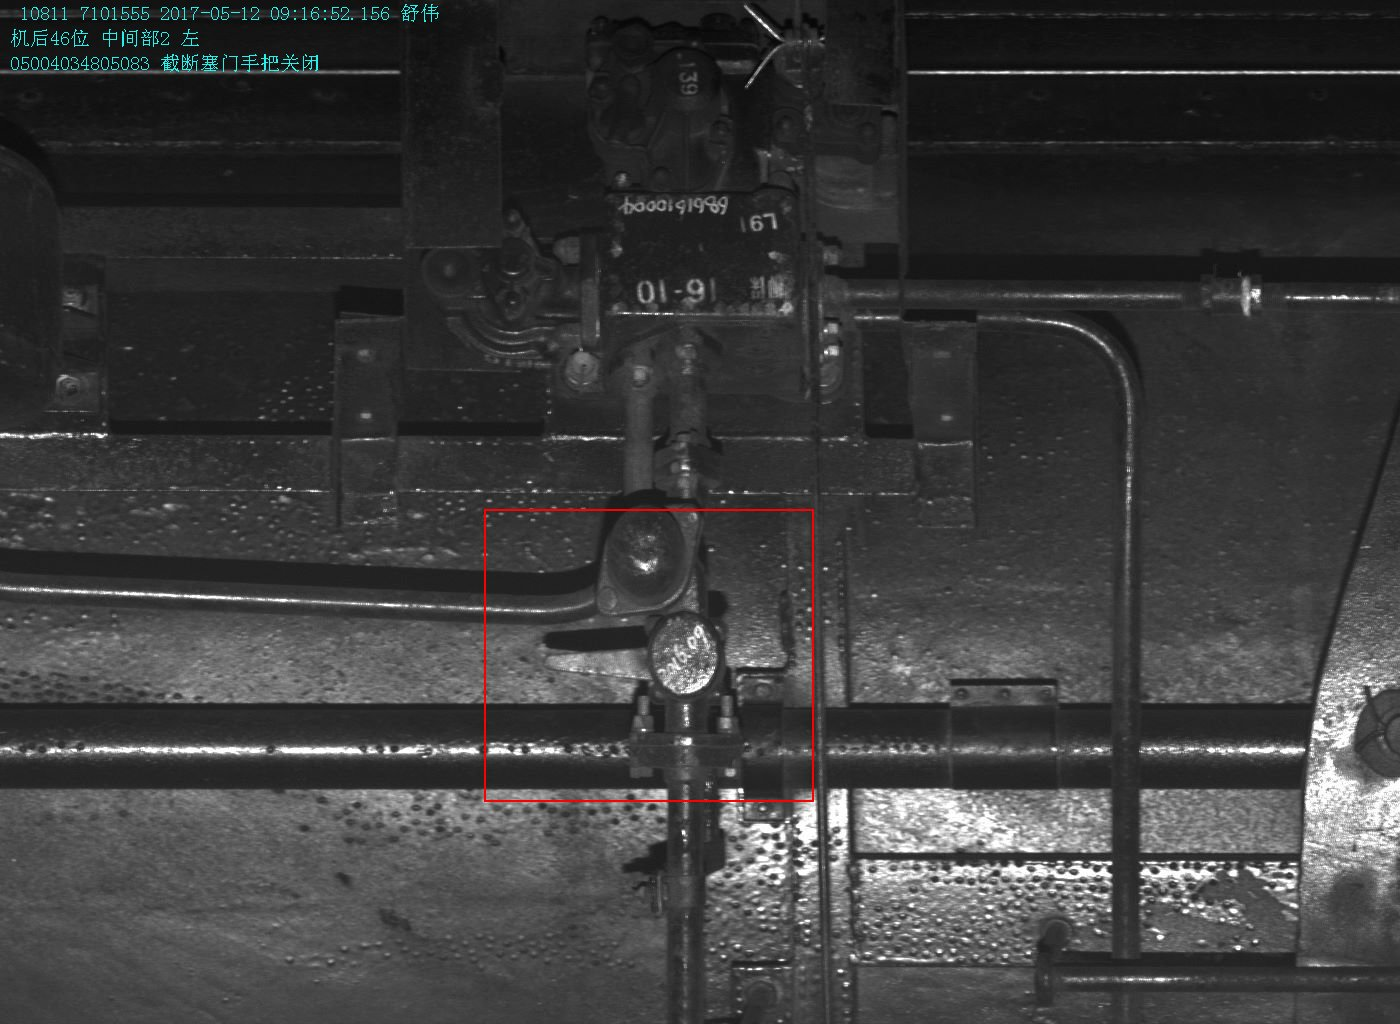truncated plug door handle: (543, 611, 730, 701)
